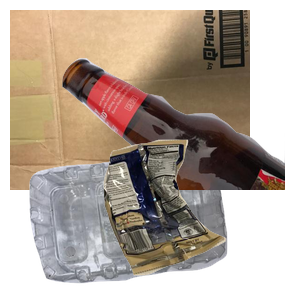cardboard: (10, 10, 250, 190)
glass: (60, 56, 300, 236)
plastic: (27, 152, 247, 300)
trash: (101, 137, 300, 300)
